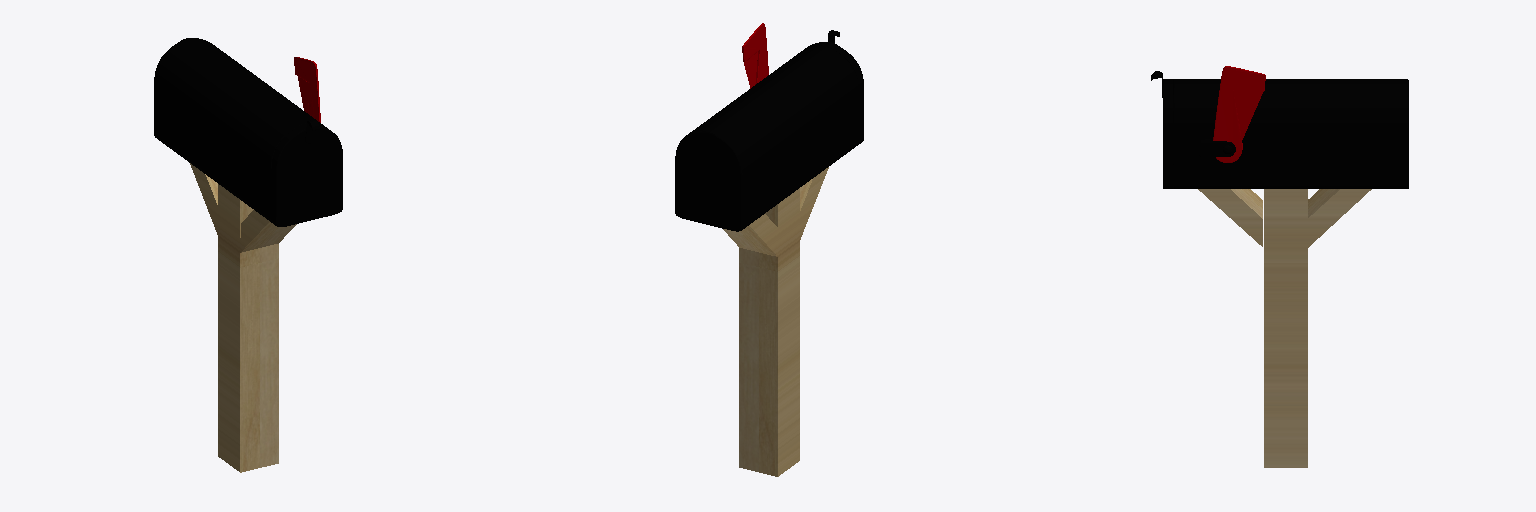
The picture shows the model from 3 angles: view 1: azimuth 30°, elevation 25°; view 2: azimuth 150°, elevation 25°; view 3: azimuth 270°, elevation 25°; orthographic projection.
Visible parts, largest first — view 1: 3_3, Mesh_9_9, 4_4, 7_7, 5_5, 8_8; view 2: 3_3, Mesh_9_9, 8_8, 5_5, 7_7, 4_4; view 3: 3_3, Mesh_9_9, 5_5, 7_7, 8_8, 4_4.
Boxes of the visible parts, x1,y1,x2,y2 form: 3_3: [154, 38, 326, 222]; Mesh_9_9: [218, 184, 278, 472]; 4_4: [271, 124, 342, 226]; 7_7: [240, 210, 296, 252]; 5_5: [294, 57, 320, 122]; 8_8: [190, 163, 217, 234]; 3_3: [675, 46, 858, 231]; Mesh_9_9: [739, 188, 799, 476]; 8_8: [723, 214, 777, 256]; 5_5: [742, 23, 768, 88]; 7_7: [800, 167, 828, 239]; 4_4: [804, 42, 863, 144]; 3_3: [1174, 79, 1408, 188]; Mesh_9_9: [1264, 189, 1307, 467]; 5_5: [1213, 66, 1265, 162]; 7_7: [1198, 189, 1262, 246]; 8_8: [1308, 189, 1371, 247]; 4_4: [1163, 79, 1173, 188].
Bounding box in the file's own units: 0.195 × 1 × 0.57.
3 materials, 1 textured.